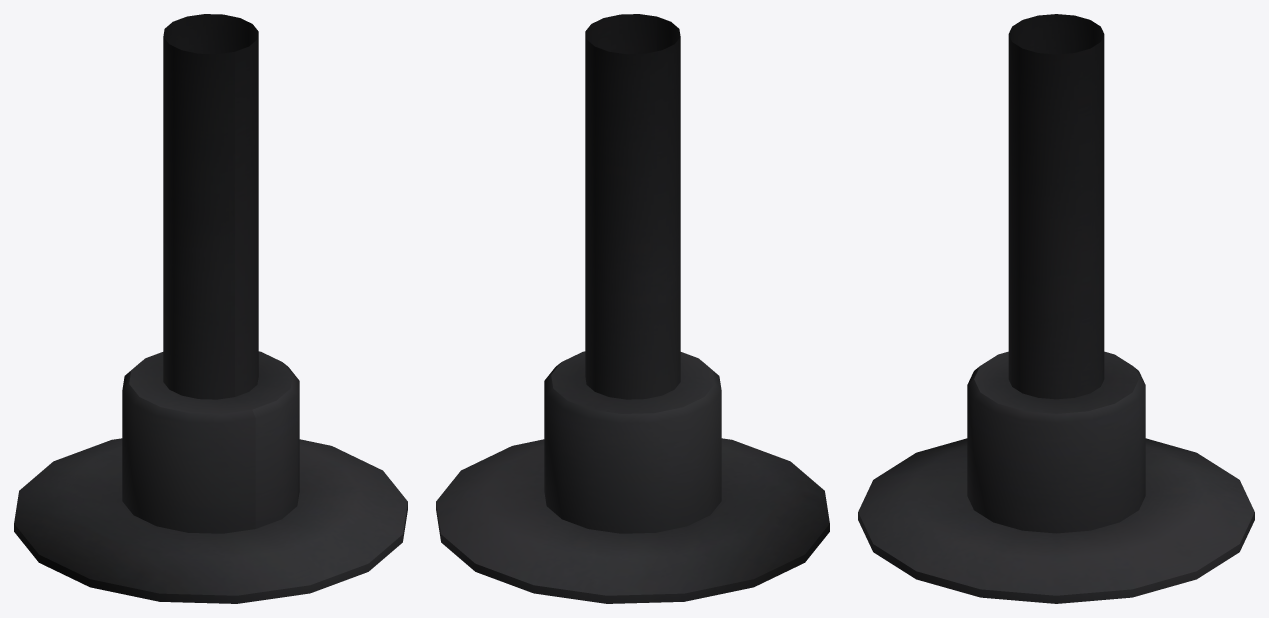
Rendered from fdxest_p6_console_chair_base_lod0.glb.
The picture shows the model from 3 angles, left to right: view 1: azimuth 30°, elevation 25°; view 2: azimuth 150°, elevation 25°; view 3: azimuth 270°, elevation 25°; orthographic projection.
Visible parts, largest first — view 1: surf0; view 2: surf0; view 3: surf0.
Boxes of the visible parts, x1=… form: surf0: x1=14, y1=14, x2=407, y2=603; surf0: x1=436, y1=14, x2=829, y2=603; surf0: x1=858, y1=14, x2=1254, y2=603.
Bounding box in the file's own units: 15.2 × 20.54 × 15.2.
